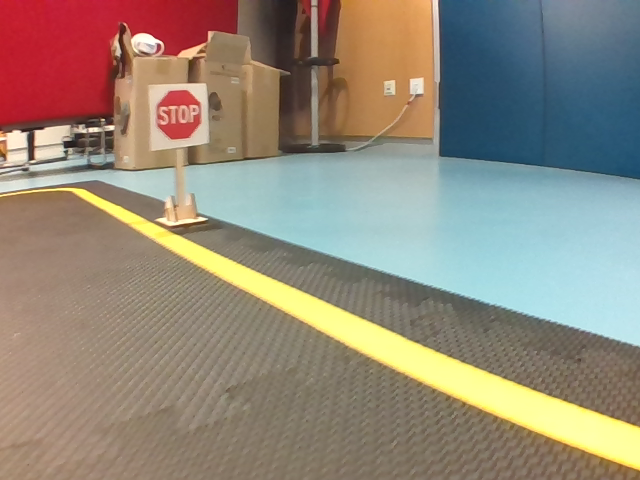30: (284, 97, 306, 120)
no30: (367, 74, 414, 120), (61, 114, 69, 136)
